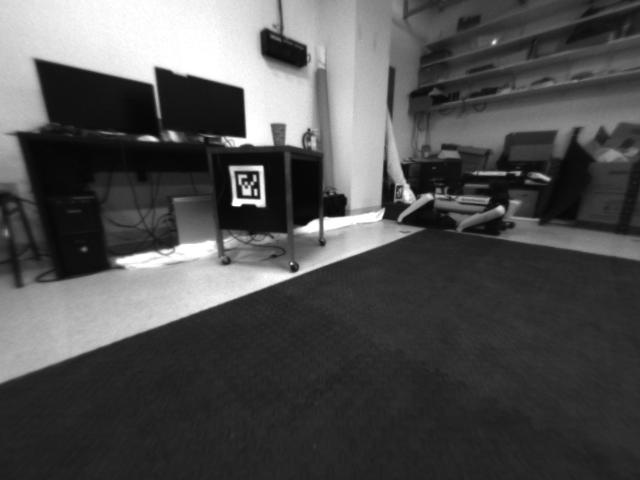coffee_cup: (268, 122, 289, 146)
